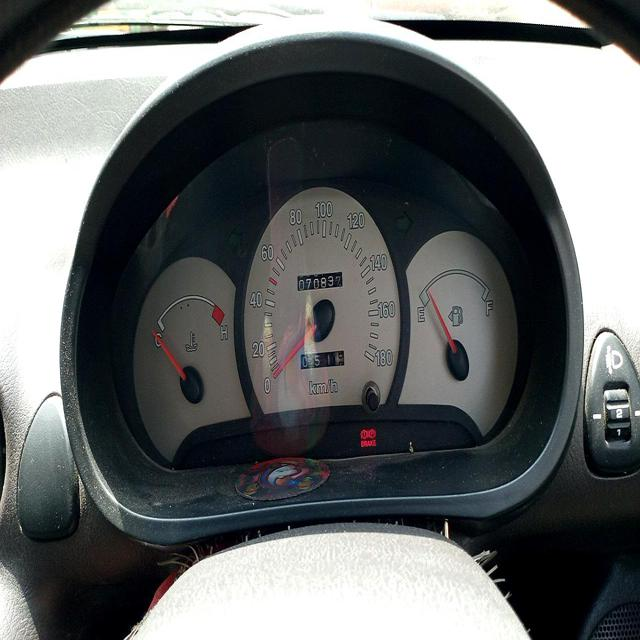odometer: (295, 270, 343, 292)
